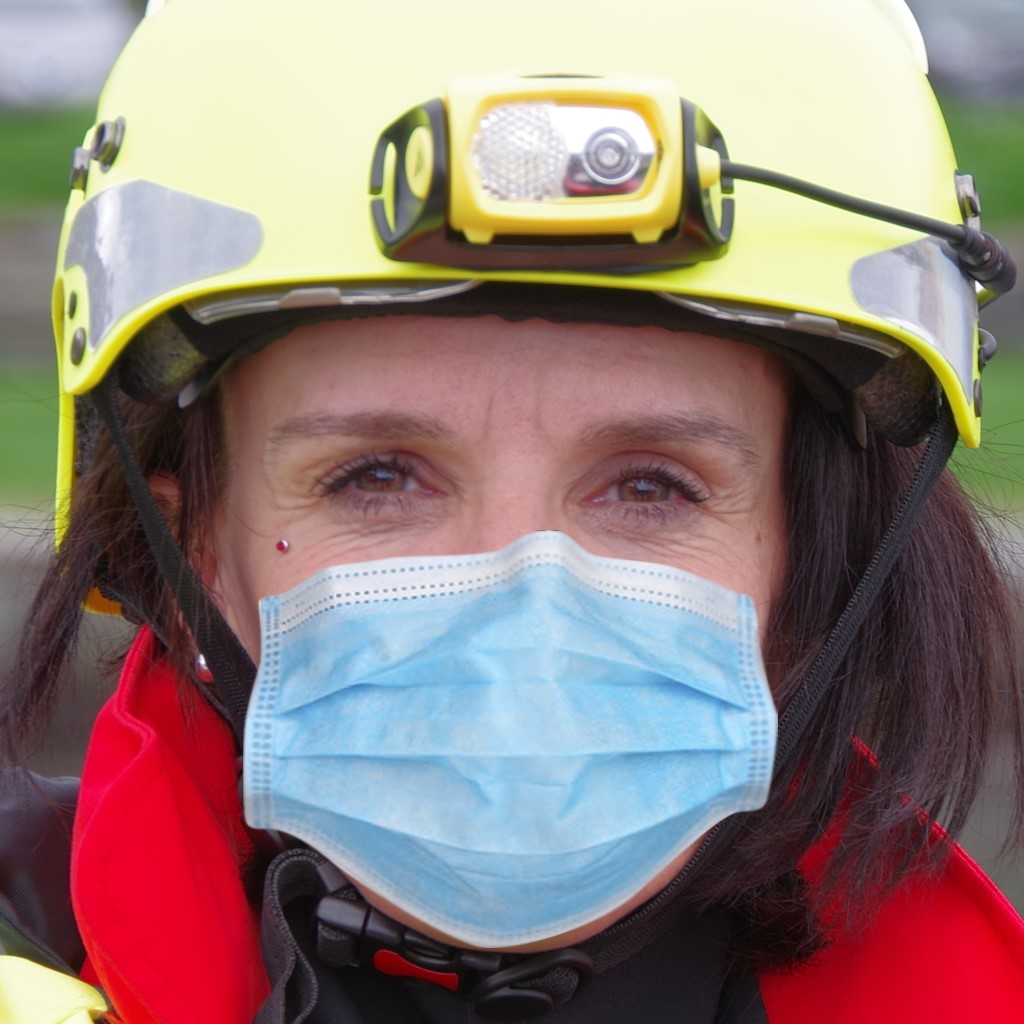con_mascara: (130, 175, 828, 947)
